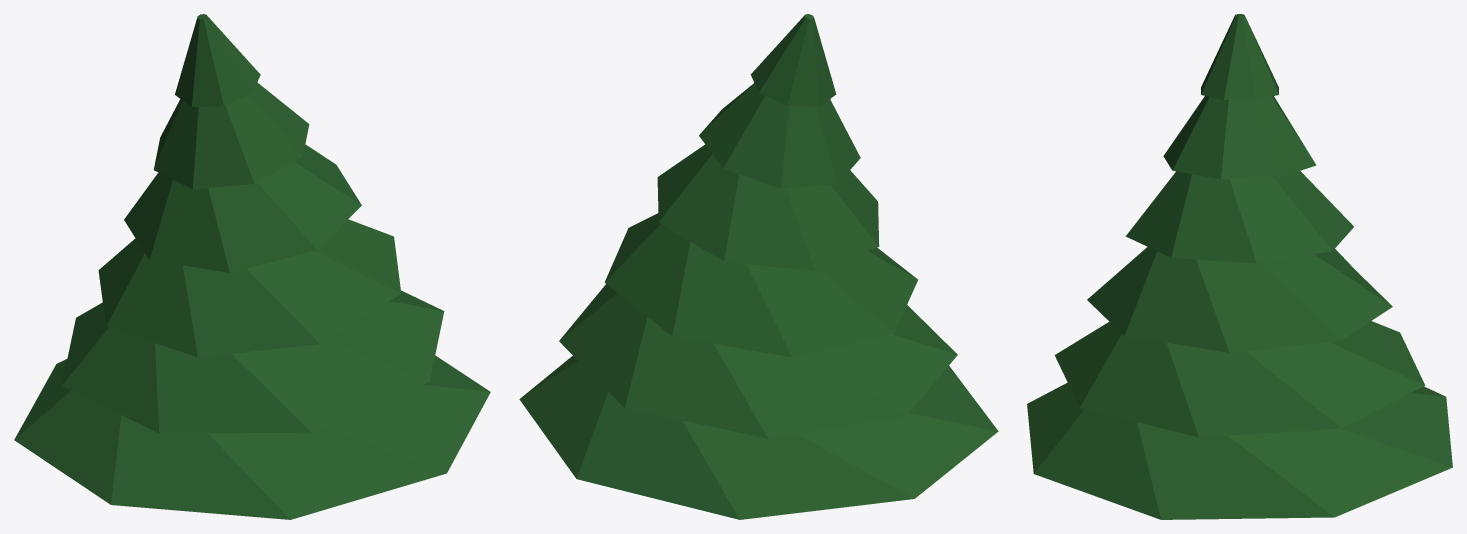
File: Tree9.glb
The picture shows the model from 3 angles, left to right: view 1: azimuth 30°, elevation 25°; view 2: azimuth 150°, elevation 25°; view 3: azimuth 270°, elevation 25°; orthographic projection. The views are drawn at different scales.
Parts seen in each view (by area): view 1: Tree11; view 2: Tree11; view 3: Tree11.
Boxes of the visible parts, box(x1,y1,x2,y2) form: Tree11: box(14, 14, 490, 519); Tree11: box(519, 14, 998, 519); Tree11: box(1027, 14, 1452, 519).
Bounding box in the file's own units: 6.09 × 7.1 × 5.94.
